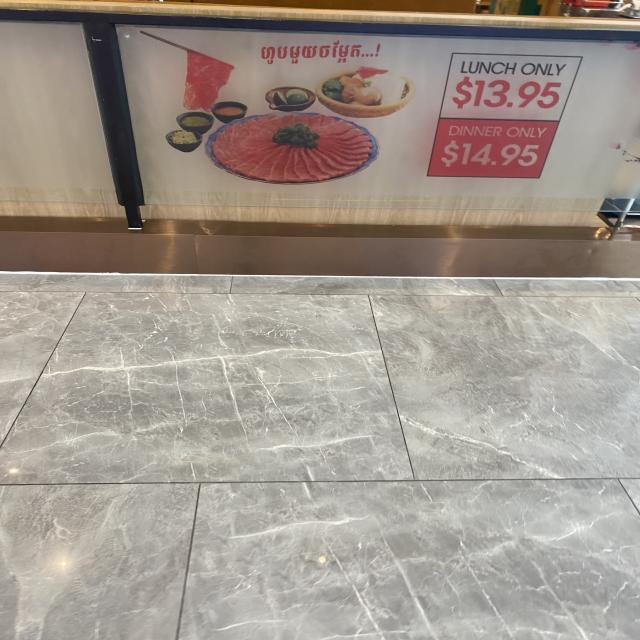116: (446, 75, 566, 114)
118: (434, 138, 544, 173)
Yolov11kh: (257, 37, 386, 71)
